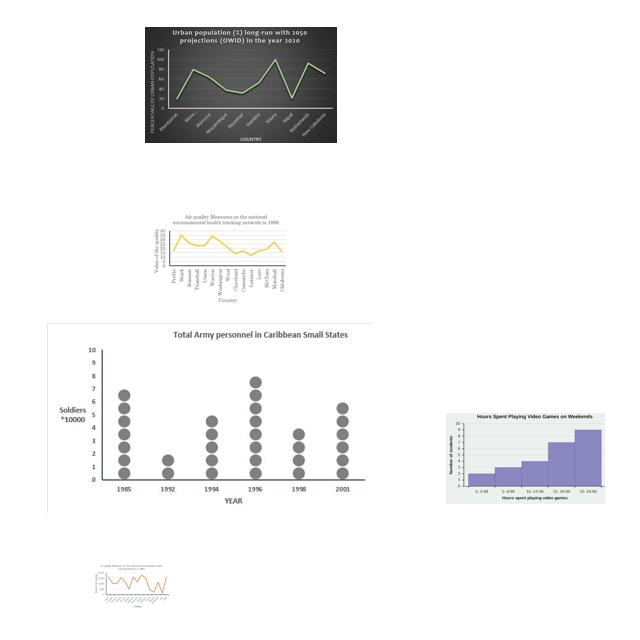Graph: (47, 323, 372, 513), (145, 27, 337, 143), (446, 413, 605, 504), (150, 211, 289, 305), (93, 563, 170, 609)
